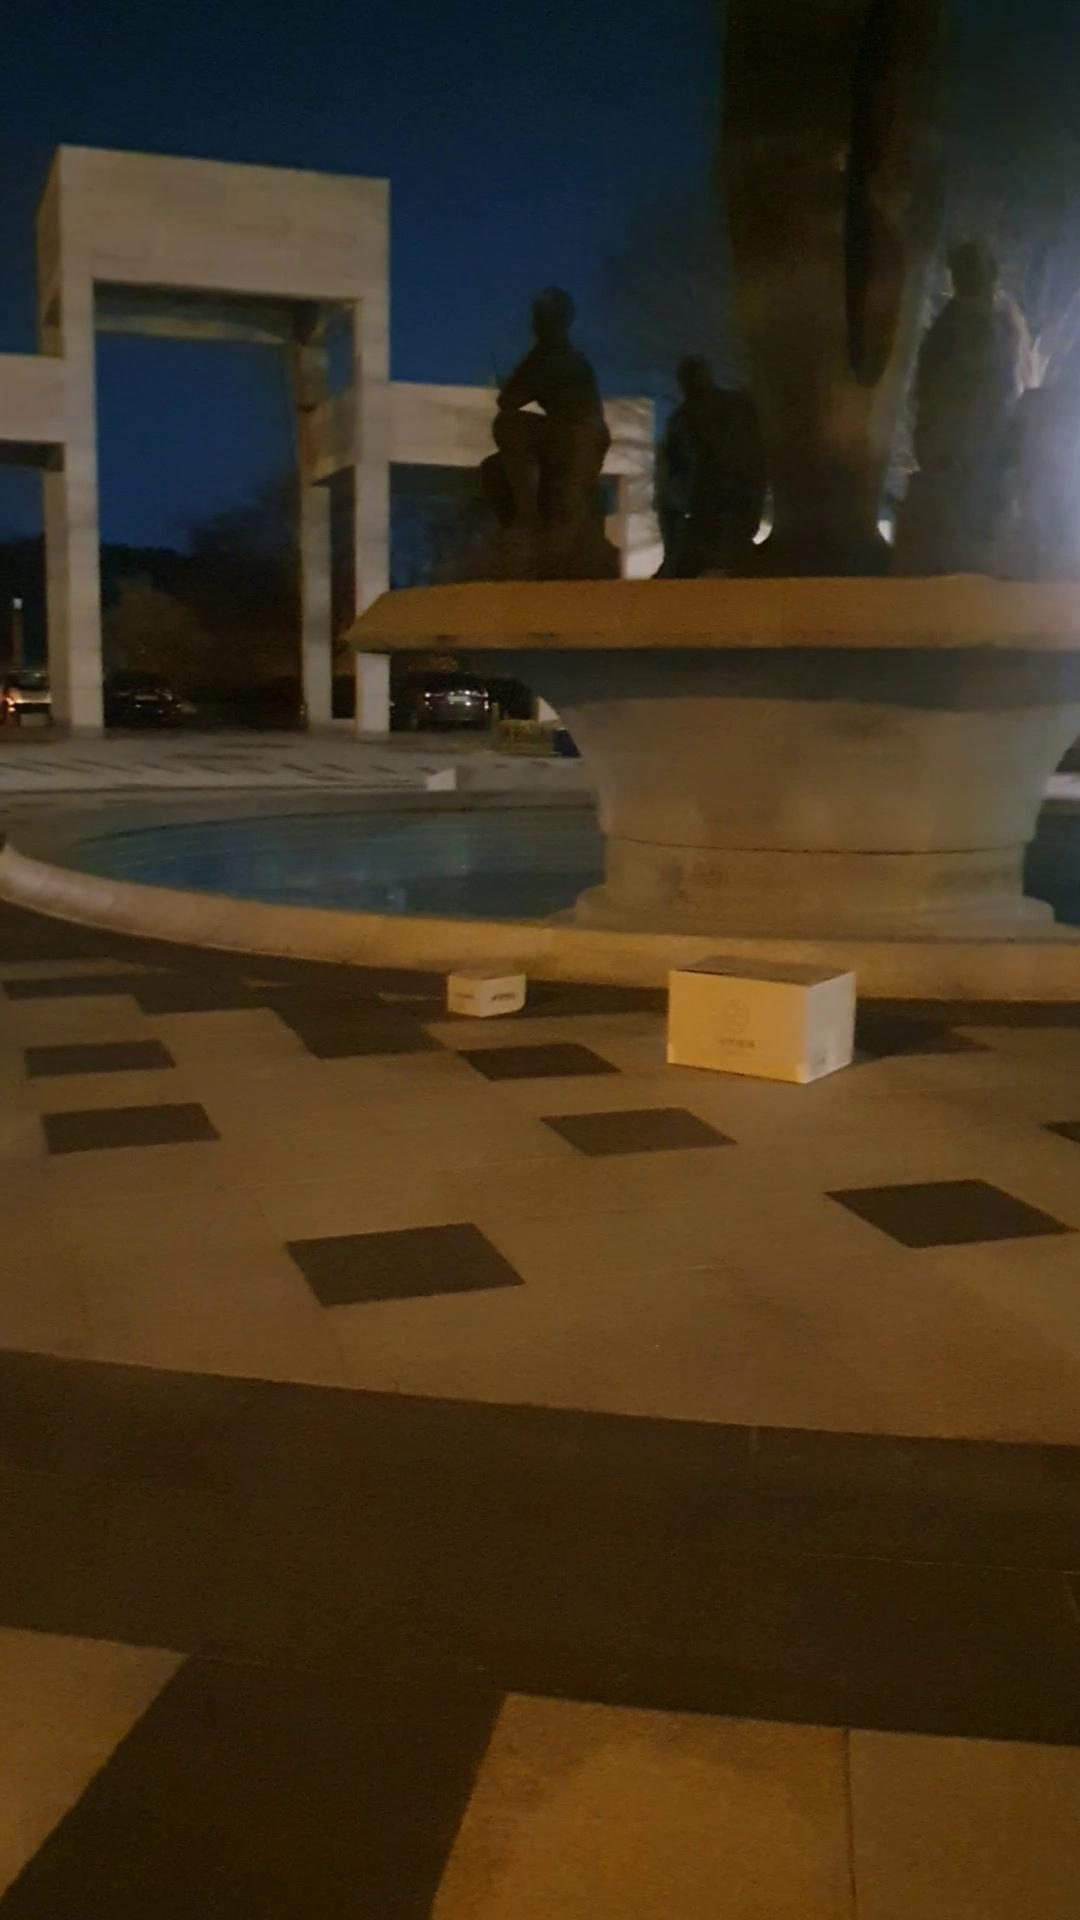Box: (655, 955, 865, 1091), (443, 960, 542, 1036)
